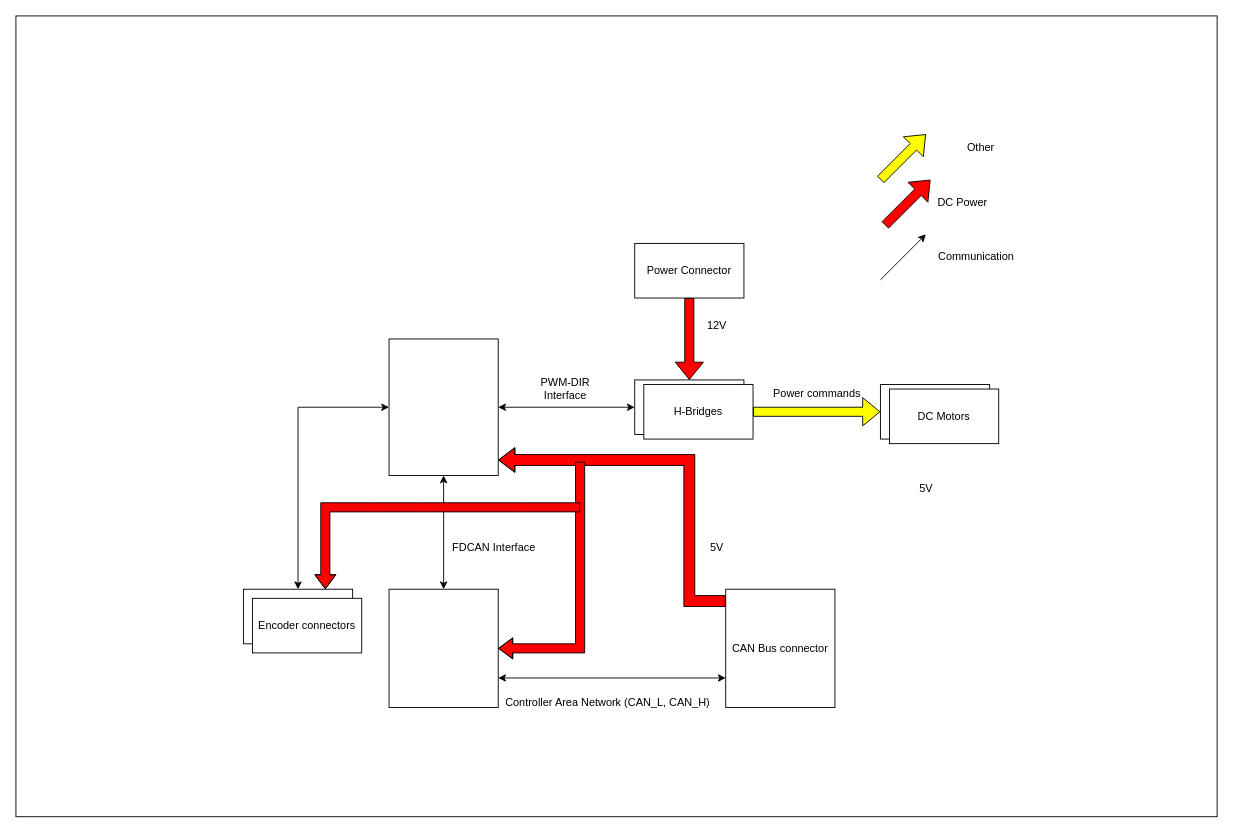
The diagram is 1233 pixels wide and 833 high, and some of its shapes have lost their labels. The shapes that lost their labels are listed below. From the top down, each one's centre as x and y in pixels, then its label:
At pixel 443 406: "Nucleo STM32".
At pixel 443 648: "CAN Transceiver".
